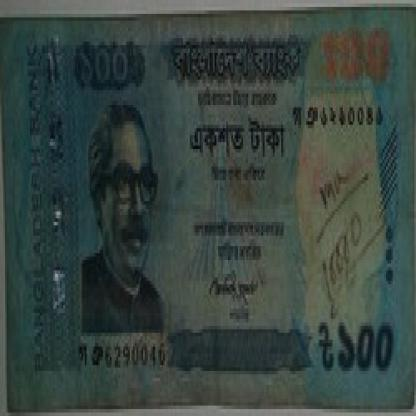one hundred taka: (62, 38, 143, 94), (333, 315, 404, 378)
